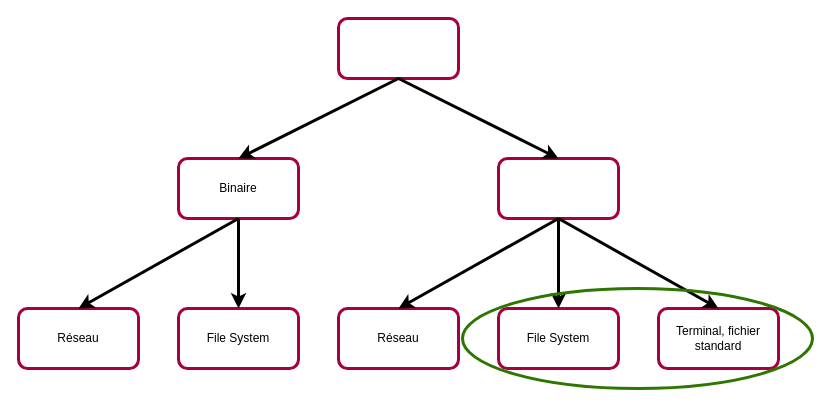
Some shapes in this 831 by 407 pixel diagram are drawn without their labels. Each missing label, with the centre of its shape:
Data: the point at 398,48
Textuelle: the point at 558,188
